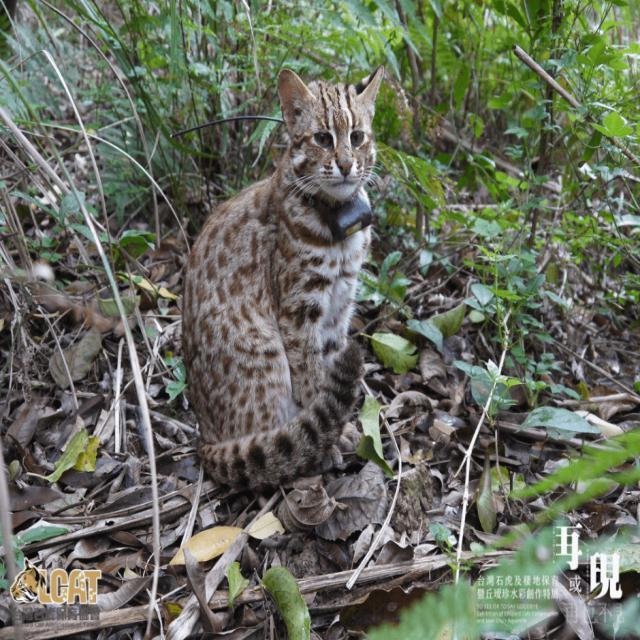leopard: (137, 30, 490, 492)
